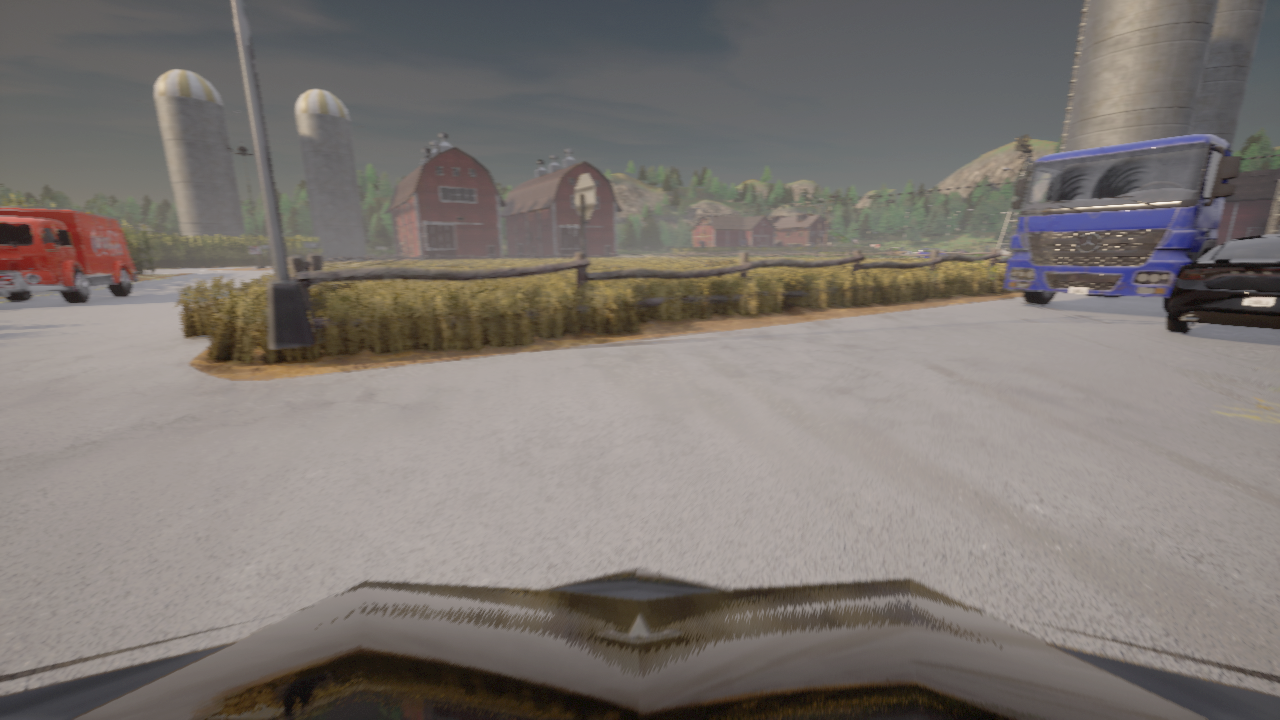cyclist: (0, 569, 1279, 719), (1003, 134, 1241, 312), (1166, 234, 1279, 332), (917, 248, 951, 258), (885, 247, 912, 254), (1002, 246, 1010, 253), (951, 249, 967, 252), (368, 254, 376, 258)
